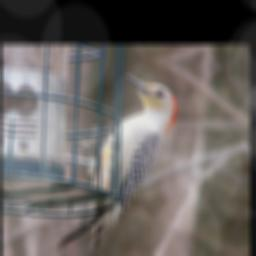Woodpecker: (54, 64, 183, 256)
